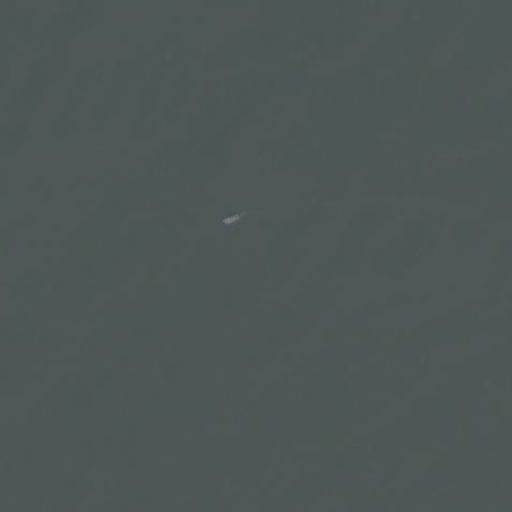ship: (220, 211, 243, 229)
